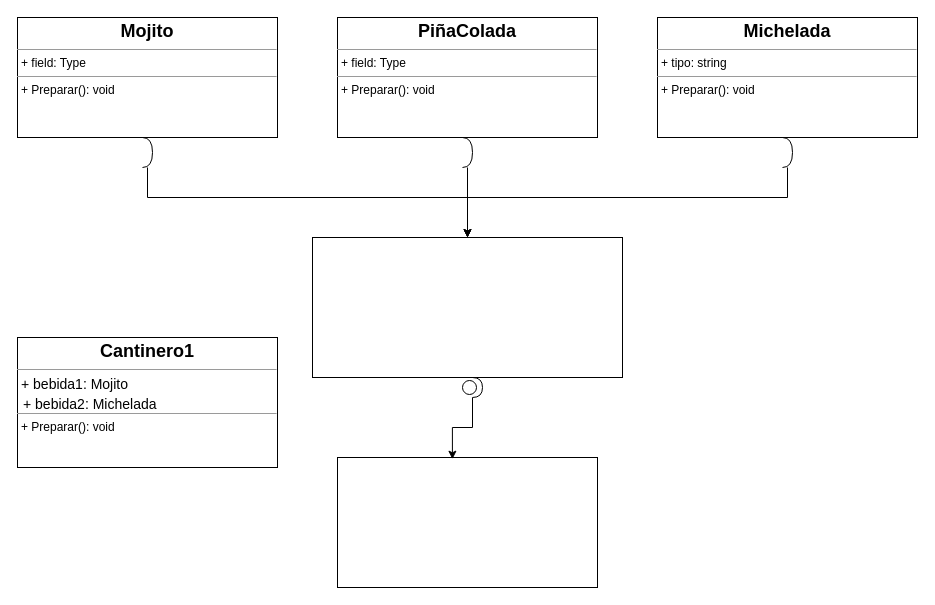
Some shapes in this 935 by 605 pixel diagram are drawn without their labels. The box of each missing label's shape, as (x1, y1, x2, y2) in pixels:
<<Interface>> IBebida + field1: Type + field2: Type + Preparar(): void: (312, 236, 622, 378)
Cantinero2 + bebida: IBebida + Preparar(): void: (336, 456, 598, 588)
